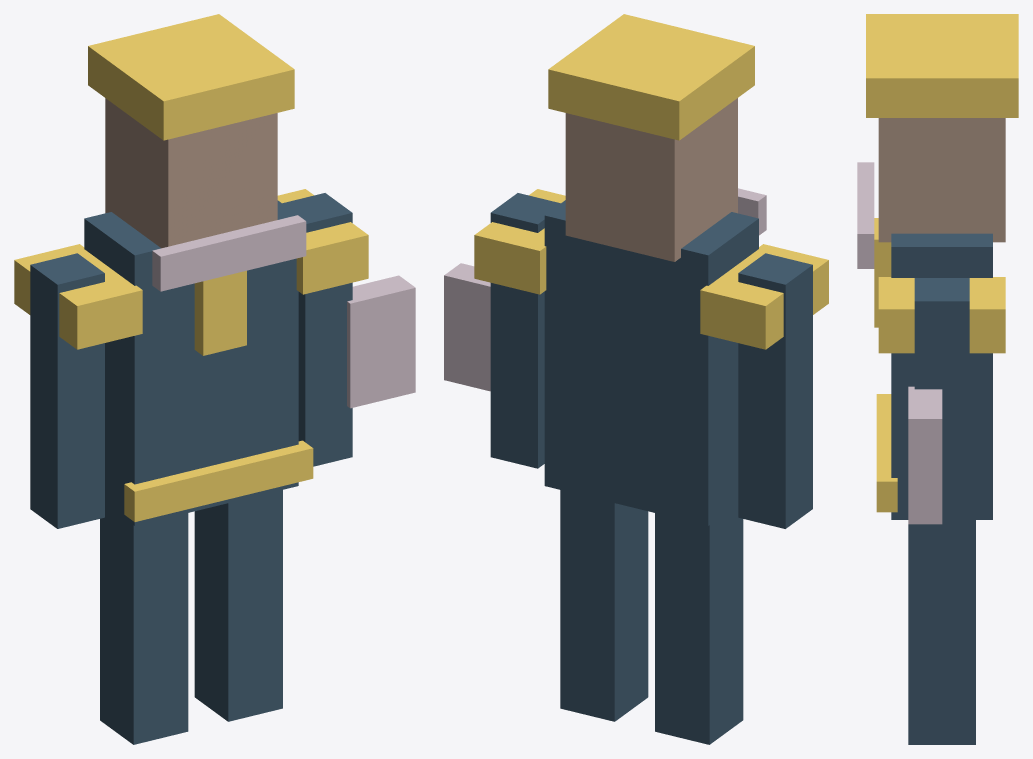
File: 15_pax_rootborne_scout_near_executive.glb
3 renders of one model, left to right at view 1: azimuth 30°, elevation 25°; view 2: azimuth 150°, elevation 25°; view 3: azimuth 270°, elevation 25°, orthographic.
Visible parts, largest first — view 1: Pax Rootborne, Scout near Executive; view 2: Pax Rootborne, Scout near Executive; view 3: Pax Rootborne, Scout near Executive.
Boxes of the visible parts, <box> form: Pax Rootborne, Scout near Executive: <box>14,14,415,744</box>; Pax Rootborne, Scout near Executive: <box>444,14,828,744</box>; Pax Rootborne, Scout near Executive: <box>857,14,1018,744</box>.
Size of the model in its own units: 0.9225 by 1.63 by 0.3595.
